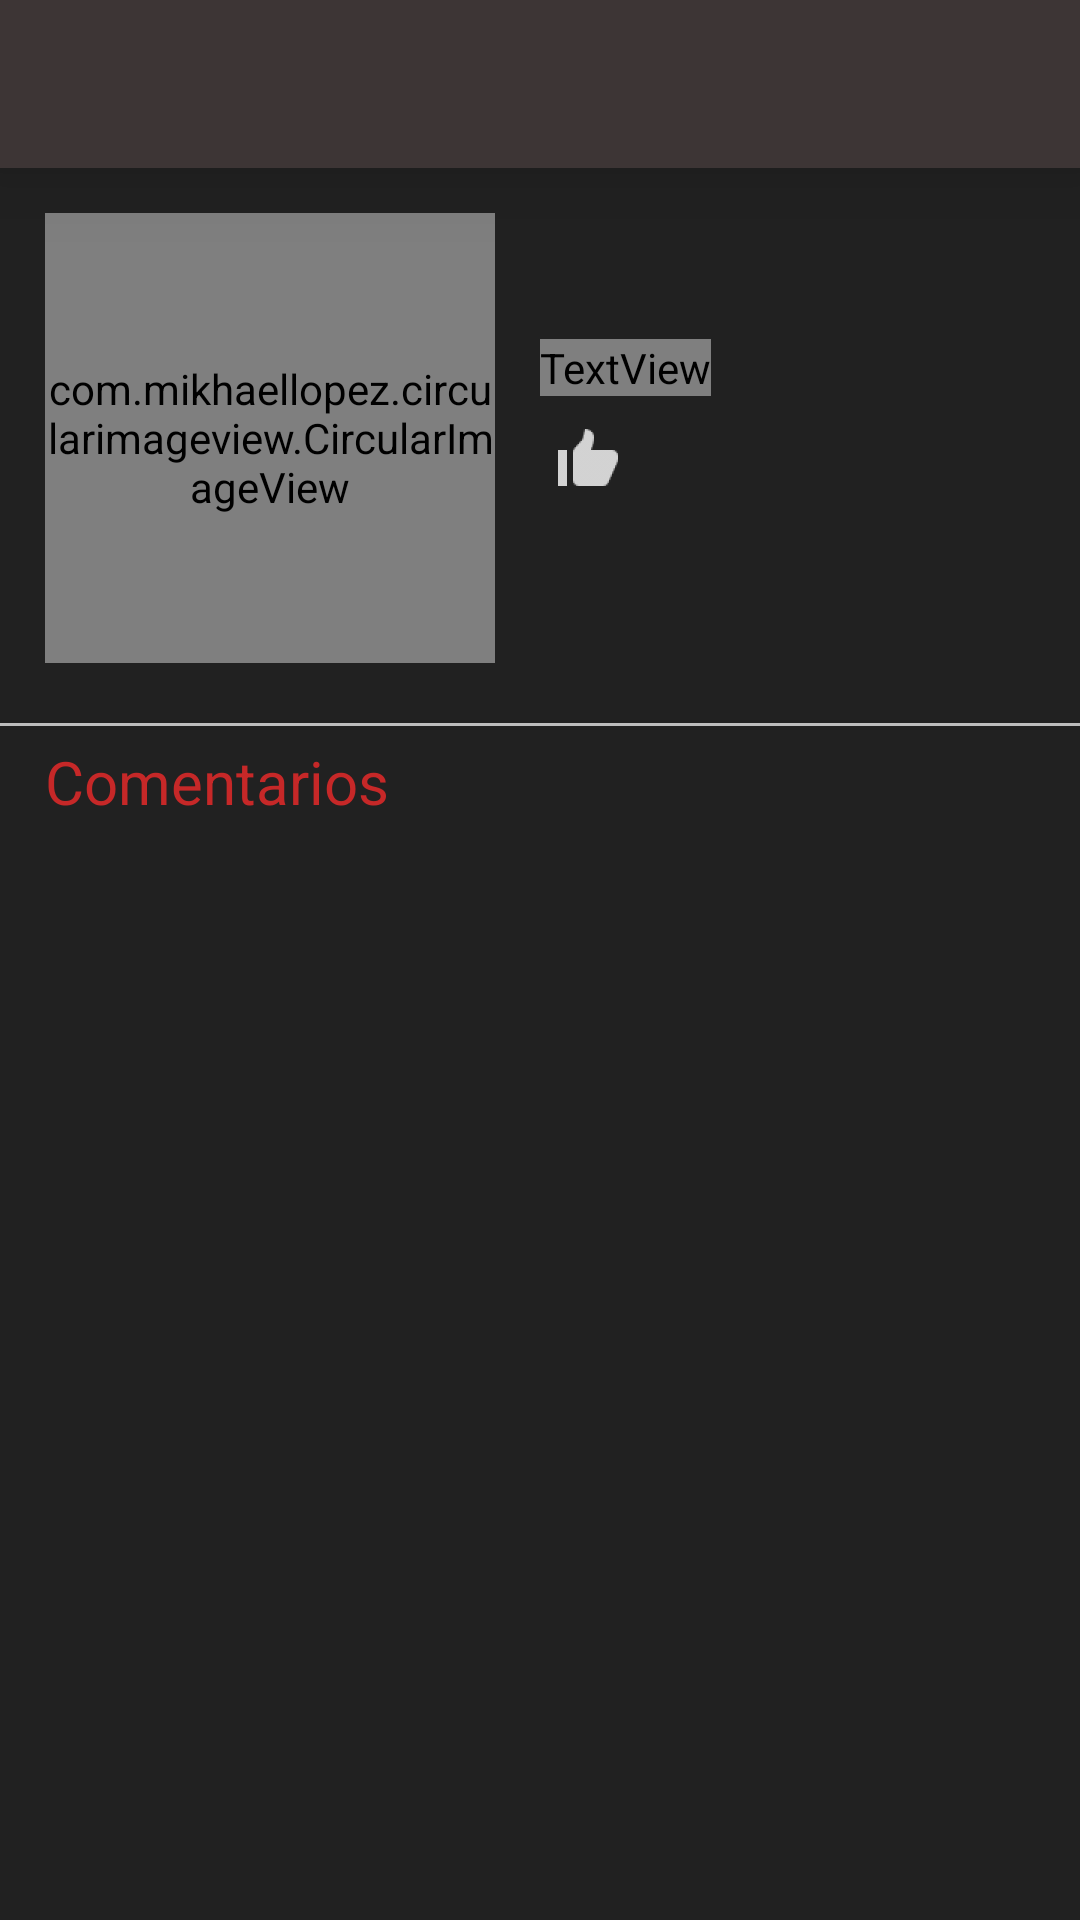

Icons on this 1080px x 1920px Android screen, each with its box as [left=x1, top=y1, right=x2, bottom=y2]:
like: [left=558, top=429, right=618, bottom=486]
